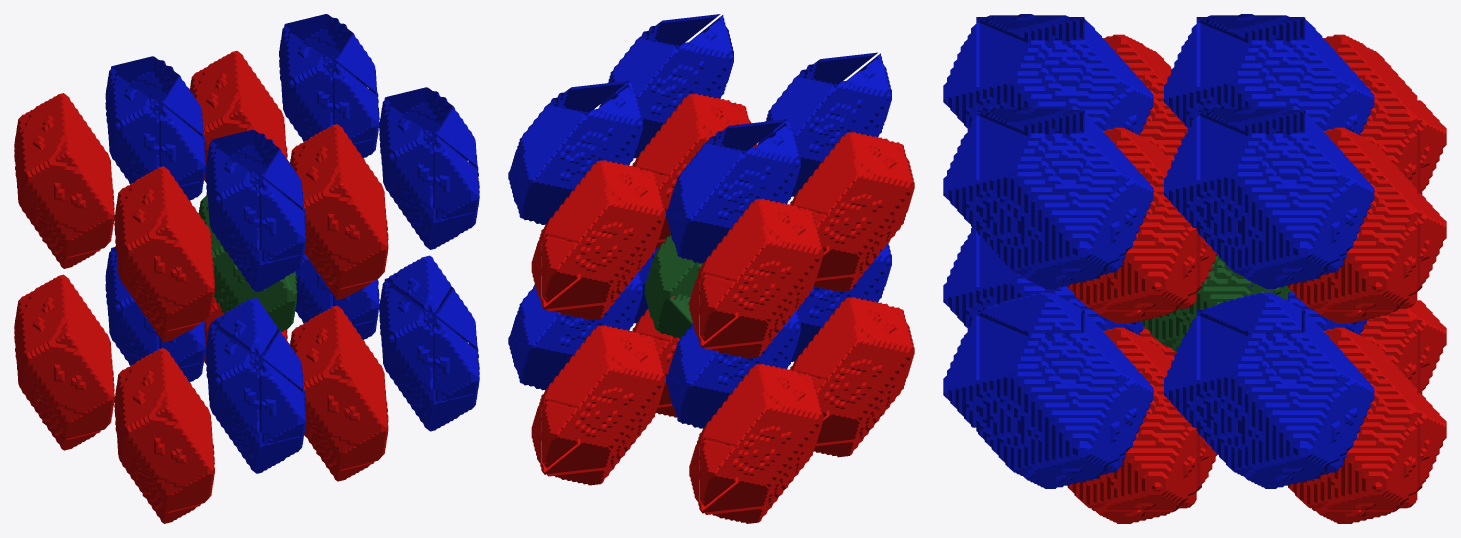
File: Ppm_coamoeba.obj
The picture shows the model from 3 angles, left to right: view 1: azimuth 30°, elevation 25°; view 2: azimuth 150°, elevation 25°; view 3: azimuth 270°, elevation 25°; orthographic projection. The views are drawn at different scales.
Parts seen in each view (by area): view 1: Ppm_coamoeba; view 2: Ppm_coamoeba; view 3: Ppm_coamoeba.
Boxes of the visible parts, x1,y1,x2,y2 form: Ppm_coamoeba: (14,14,479,523); Ppm_coamoeba: (508,14,914,523); Ppm_coamoeba: (943,14,1446,523).
Bounding box in the file's own units: 1.98 × 2.13 × 2.28.
